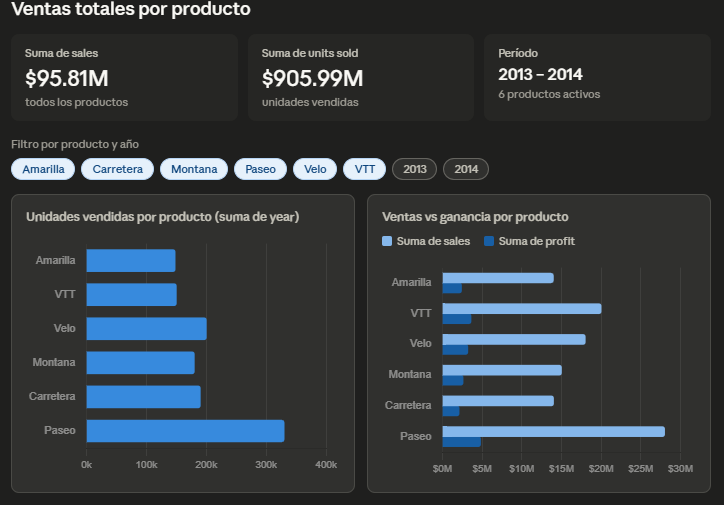

What the dashboard file says about the page in this screenshot:
{"tool":"powerbi","page":{"name":"Ventas totales por producto","canvas":[1280,720],"ordinal":0},"visuals":[{"type":"slicer","fields":{"Values":["Sheet1.Product","Sheet1.Year"]},"box":[77,25.7,280.2,279.2],"z":0},{"type":"barChart","fields":{"Category":["Sheet1.Product"],"Y":["Sum(Sheet1.Year)"]},"box":[76.8,371.6,449.4,280.1],"z":1000},{"type":"clusteredBarChart","title":"Suma de Ventas y Suma de Ganacia por Producto","fields":{"Y":["Sum(Sheet1.Sales)","Sum(Sheet1.Profit)"],"Category":["Sheet1.Product"]},"box":[603.6,371.6,632.3,280.2],"z":2000},{"type":"slicer","fields":{"Values":["Sheet1.Product","Sheet1.Sales"]},"box":[260.7,25.7,177.6,279.2],"z":3000},{"type":"cardVisual","fields":{"Data":["Sum(Sheet1.Sales)"]},"box":[505,40,346.9,202.2],"z":4000},{"type":"cardVisual","fields":{"Data":["Sum(Sheet1.Units Sold)"]},"box":[852,57.5,346.9,167.3],"z":5000}]}

Visuals, with their boxes on the page's 1280x720 design canvas (x1, y1, x2, y2). These are canvas units, not pixel positions in the 724x505 screenshot, which may show the page scaled, cropped or inside an application window:
slicer - Sheet1.Product x Sheet1.Year: bbox=(77, 26, 357, 305)
barChart - Sheet1.Product x Sum(Sheet1.Year): bbox=(77, 372, 526, 652)
"Suma de Ventas y Suma de Ganacia por Producto" clusteredBarChart: bbox=(604, 372, 1236, 652)
slicer - Sheet1.Product x Sheet1.Sales: bbox=(261, 26, 438, 305)
cardVisual - Sum(Sheet1.Sales): bbox=(505, 40, 852, 242)
cardVisual - Sum(Sheet1.Units Sold): bbox=(852, 58, 1199, 225)
